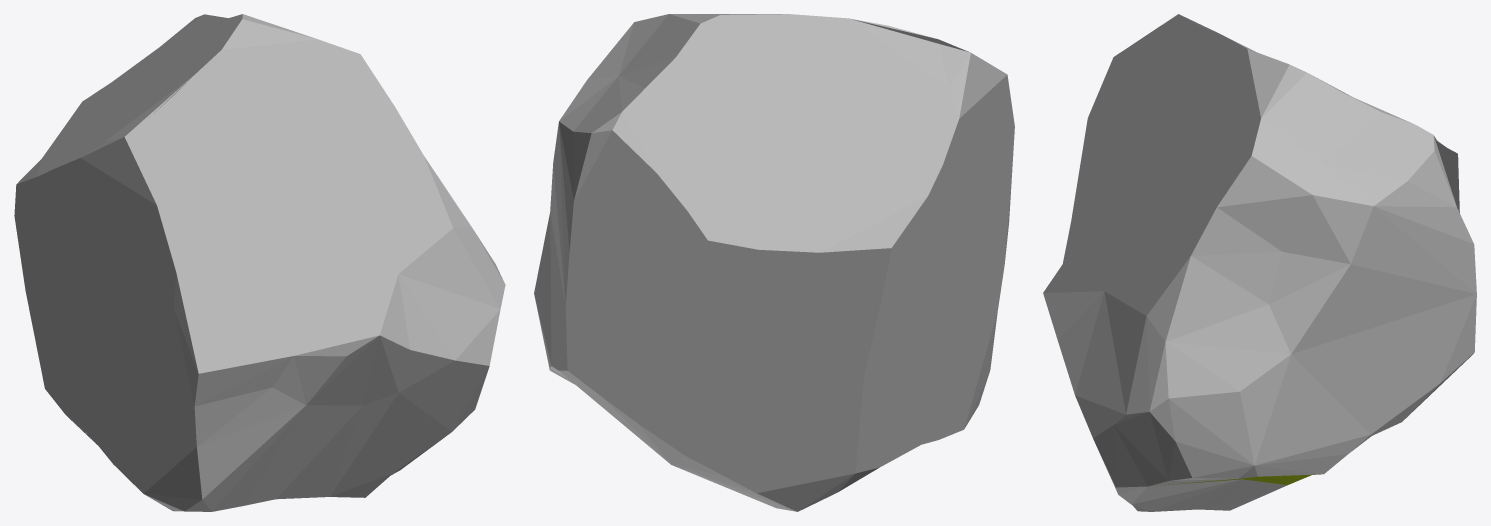
The model's file is Rock 2.fbx.
3 renders of one model, left to right at view 1: azimuth 30°, elevation 25°; view 2: azimuth 150°, elevation 25°; view 3: azimuth 270°, elevation 25°, orthographic. The views are drawn at different scales.
Visible parts, largest first — view 1: Rock.032; view 2: Rock.032; view 3: Rock.032.
Boxes of the visible parts, x1,y1,x2,y2 form: Rock.032: [14, 14, 505, 511]; Rock.032: [534, 14, 1014, 511]; Rock.032: [1043, 14, 1476, 511].
Size of the model in its own units: 196 by 213 by 191.
